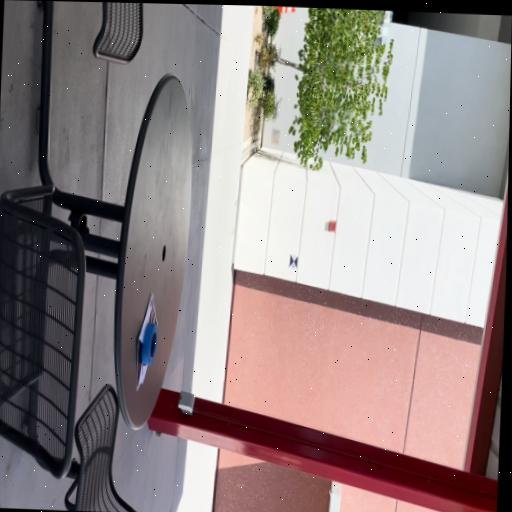target9: (289, 254, 298, 271)
